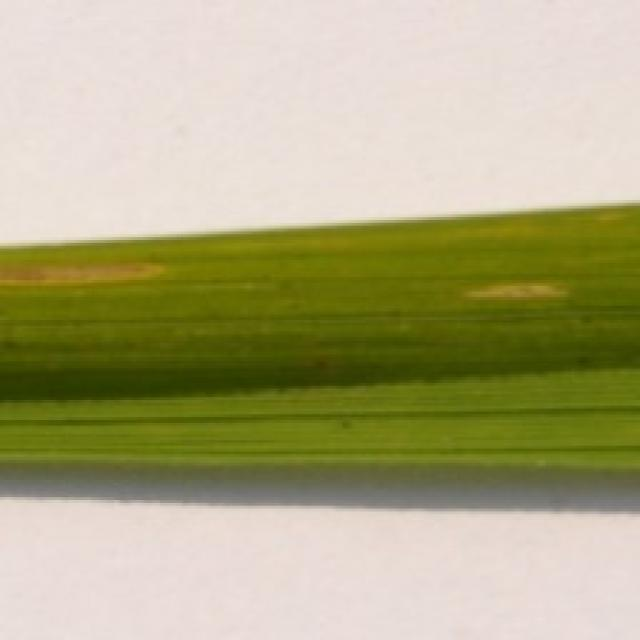Rice___Bacterial_Leaf_Blight: (0, 196, 637, 470)
